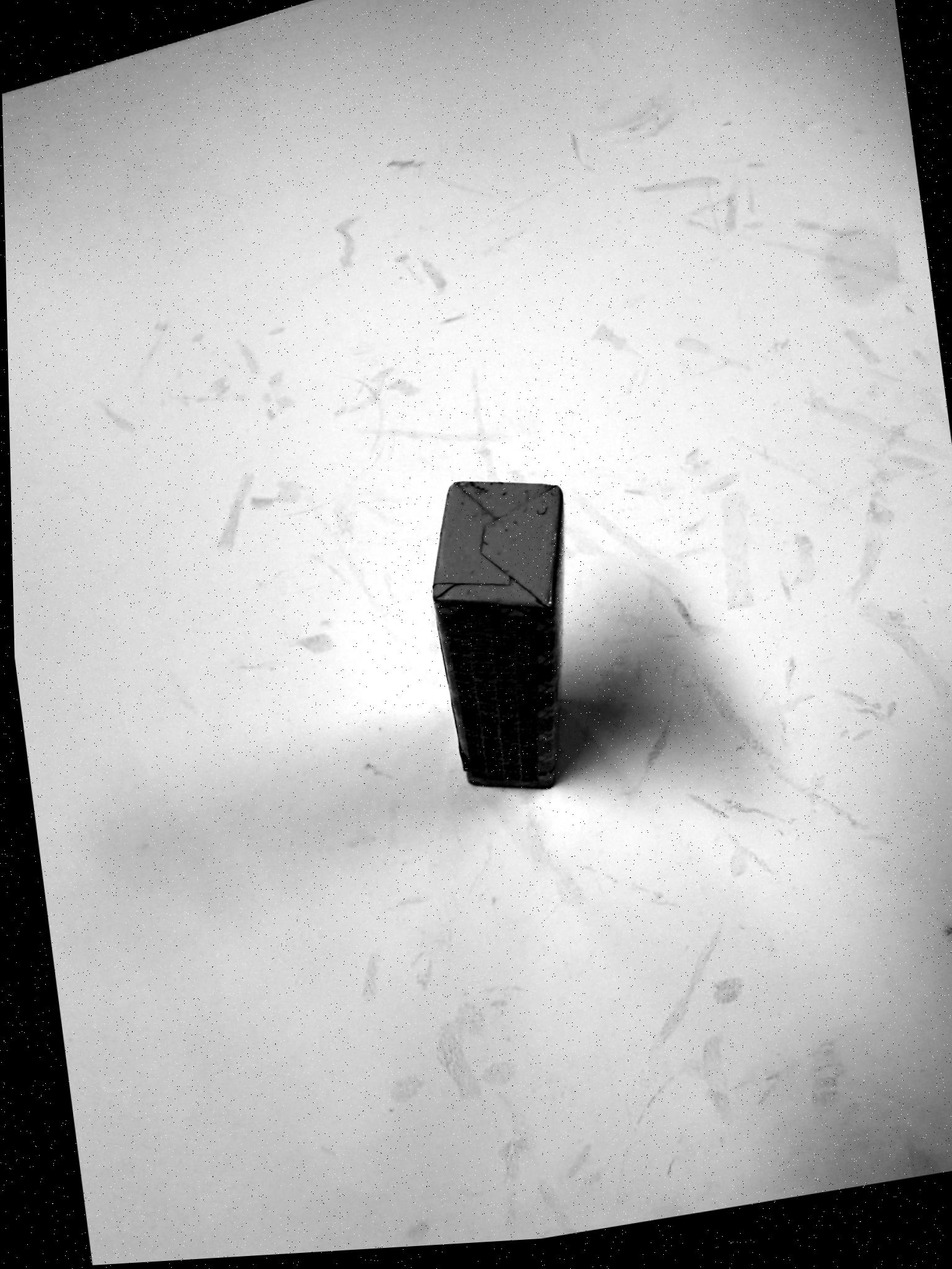gum_yellow: (432, 479, 565, 788)
